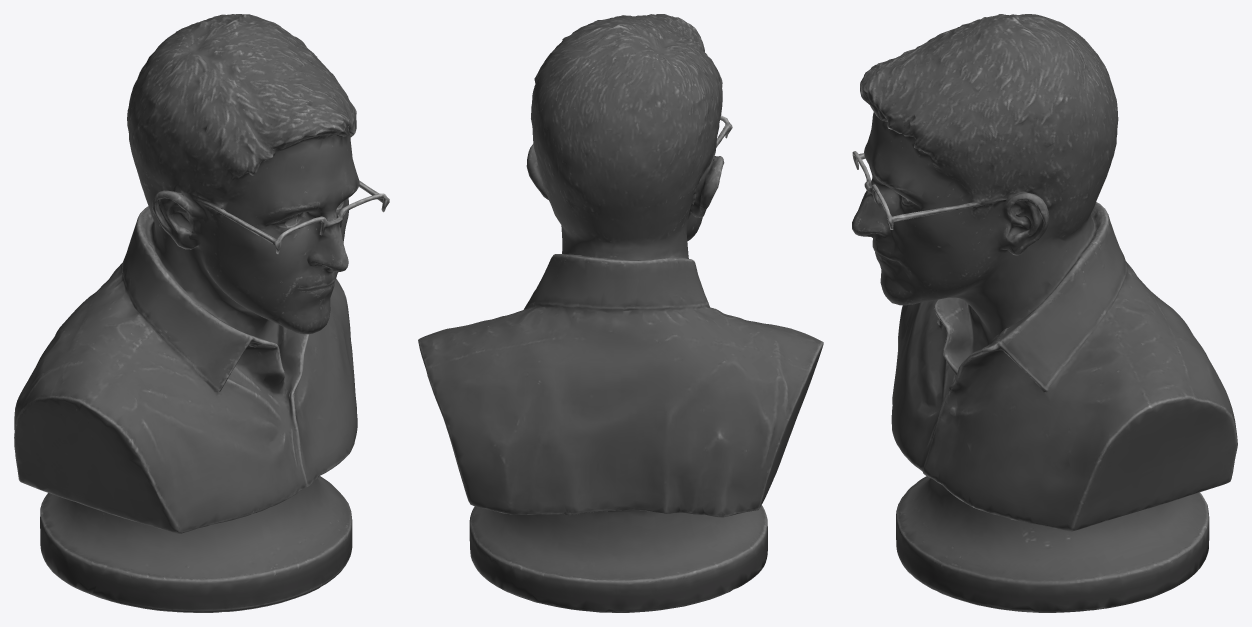
Rendered from statue-transformed.glb.
The picture shows the model from 3 angles, left to right: view 1: azimuth 30°, elevation 25°; view 2: azimuth 150°, elevation 25°; view 3: azimuth 270°, elevation 25°; orthographic projection. The views are drawn at different scales.
Parts seen in each view (by area): view 1: Object_3; view 2: Object_3; view 3: Object_3.
Part boxes in pixels (x1,y1,x2,y2): Object_3: [14, 14, 389, 612]; Object_3: [418, 14, 823, 612]; Object_3: [852, 14, 1237, 612].
Size of the model in its own units: 5.52 by 7.99 by 5.2.
Materials: 1 (1 with a texture image).
